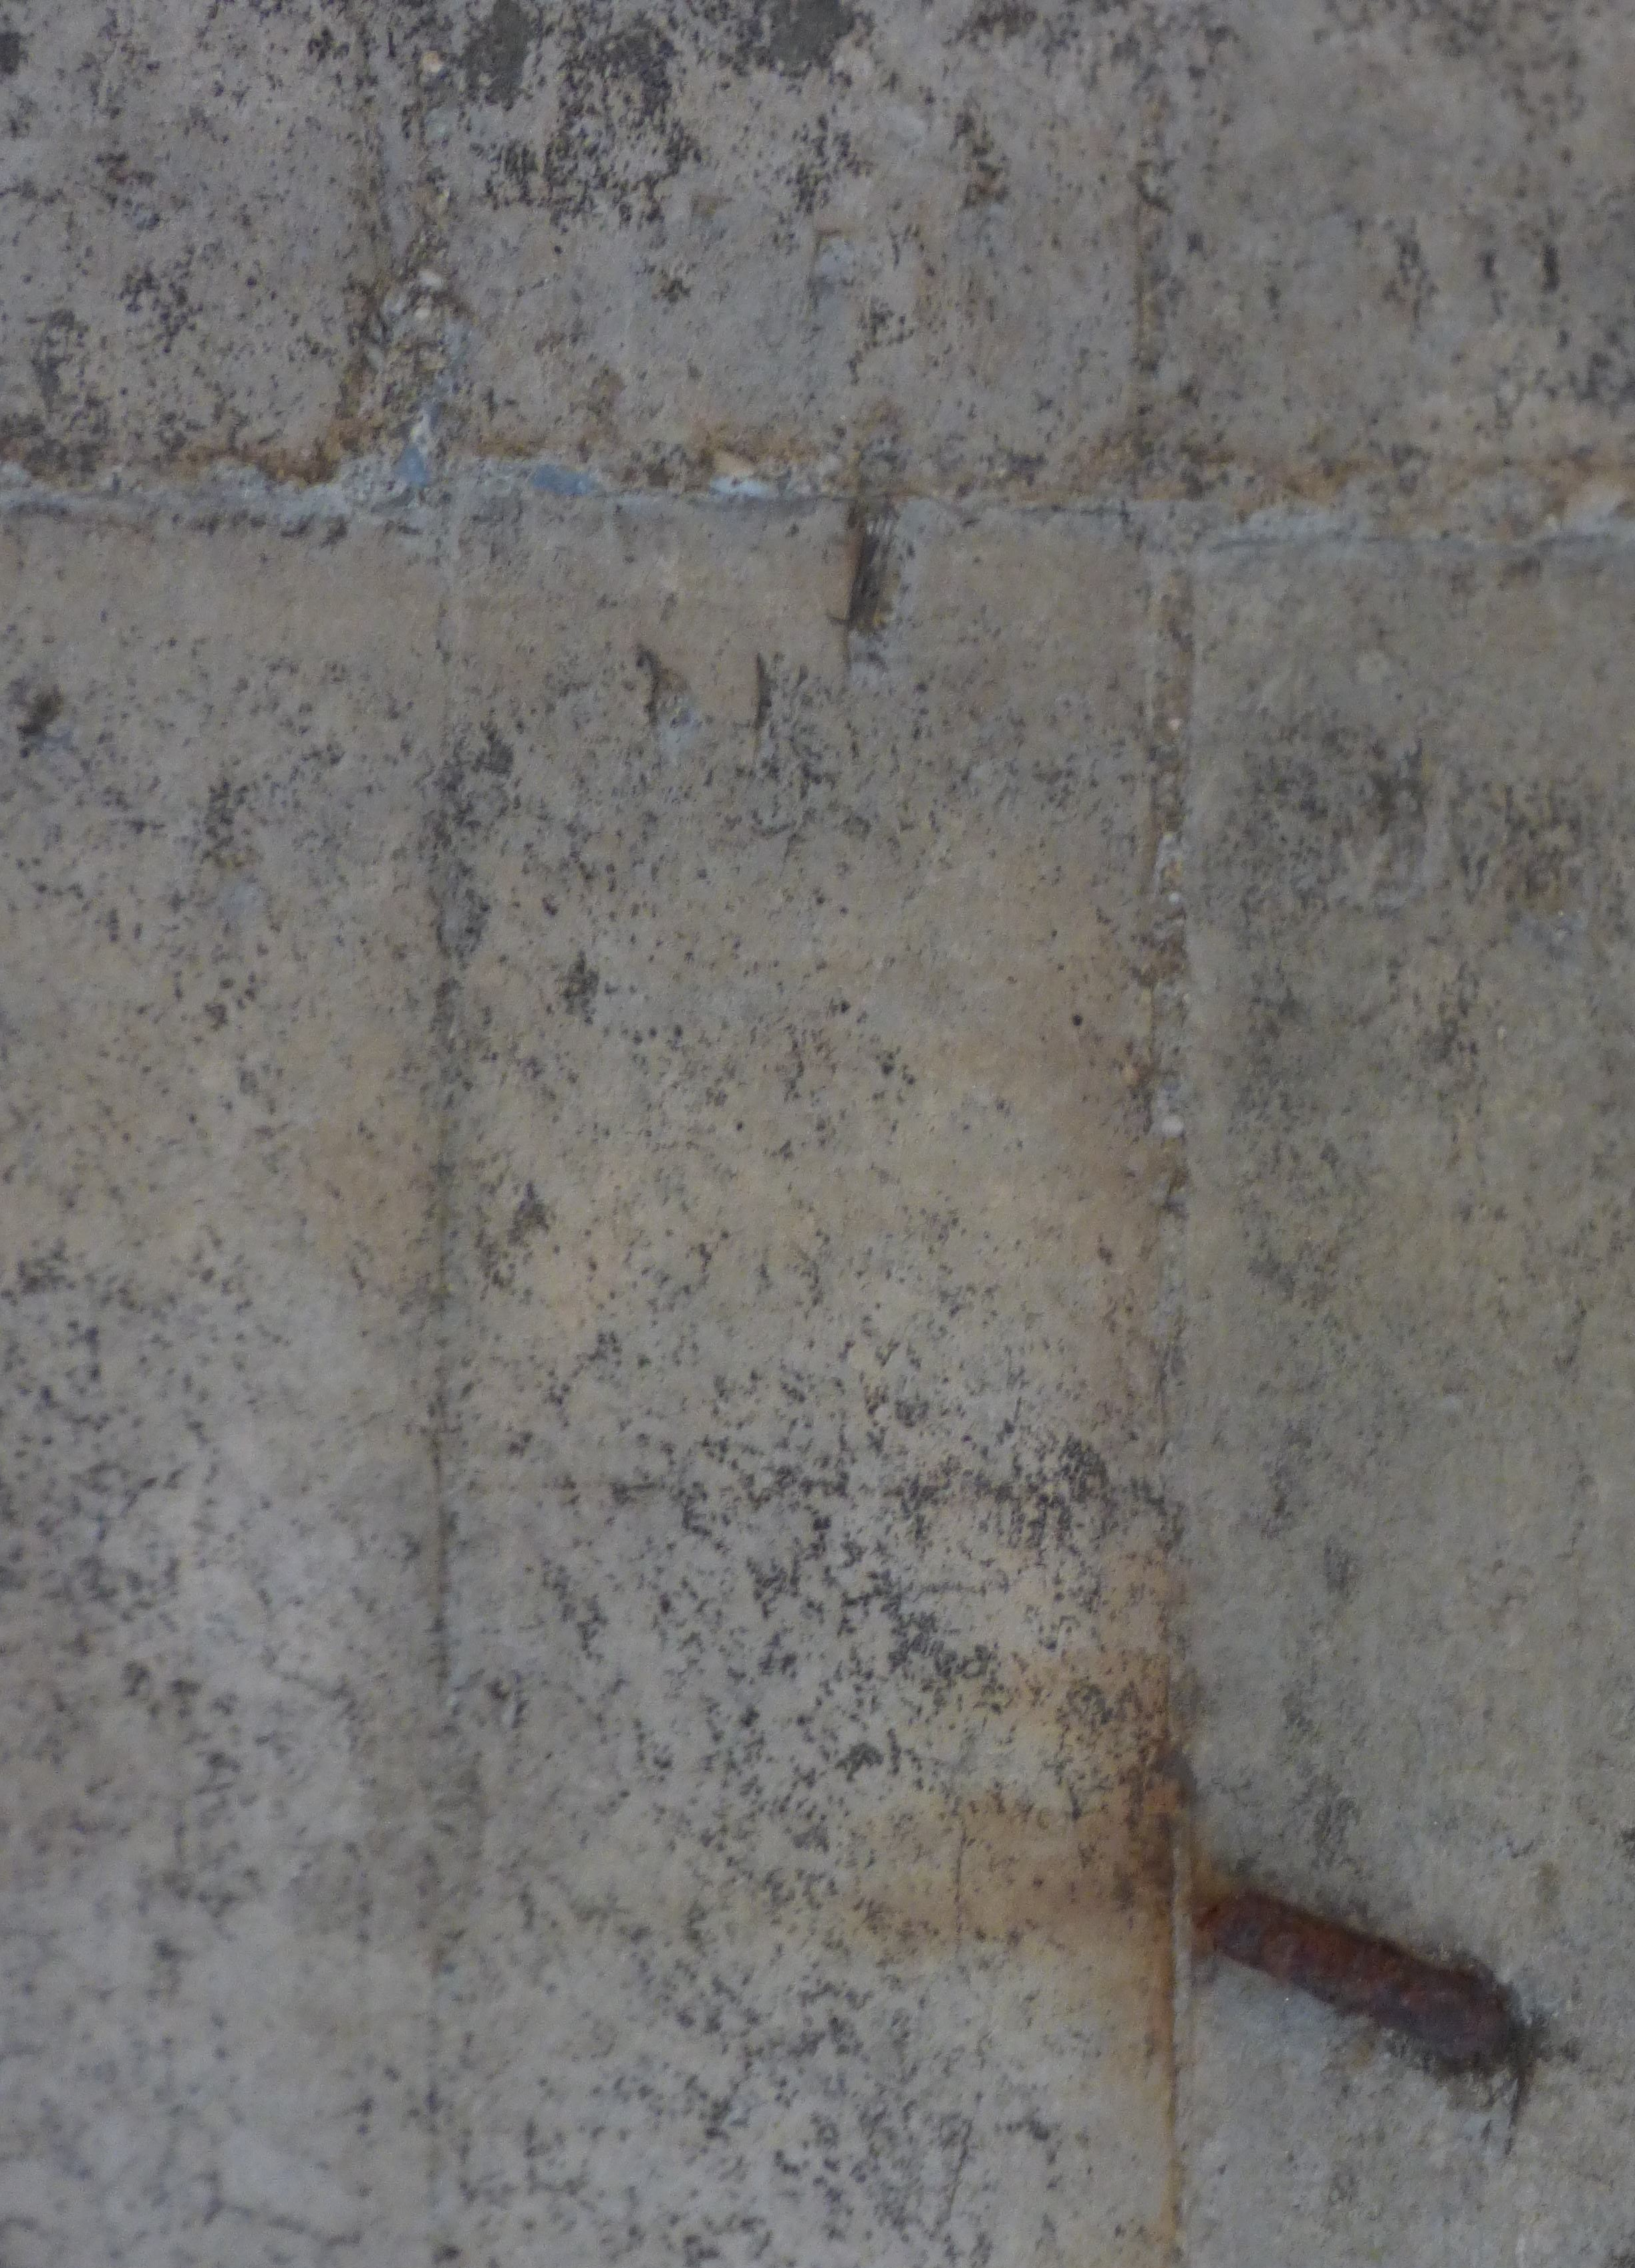Exposed reinforcement: (1195, 1889, 1503, 2058)
